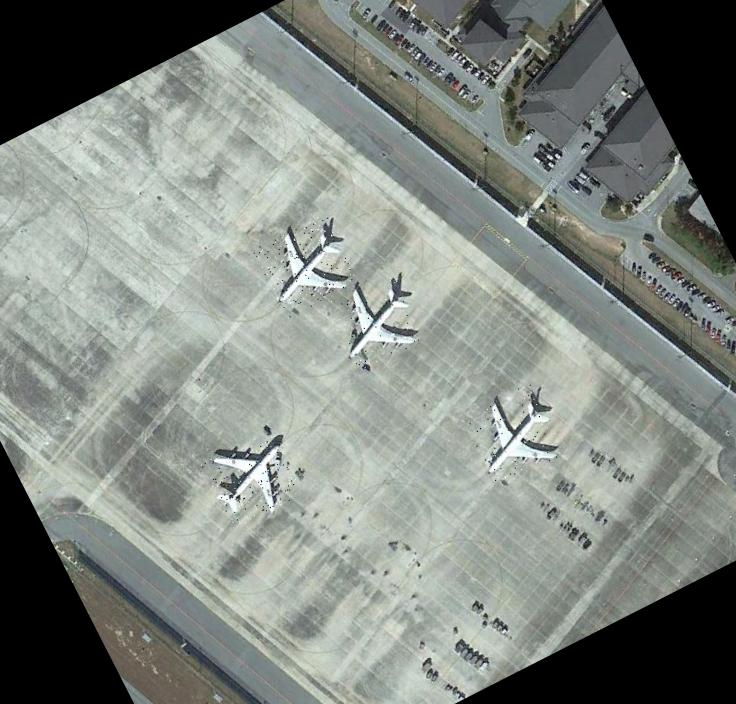A11: (460, 382, 567, 490), (252, 213, 360, 318), (322, 267, 428, 373), (198, 427, 303, 530)
